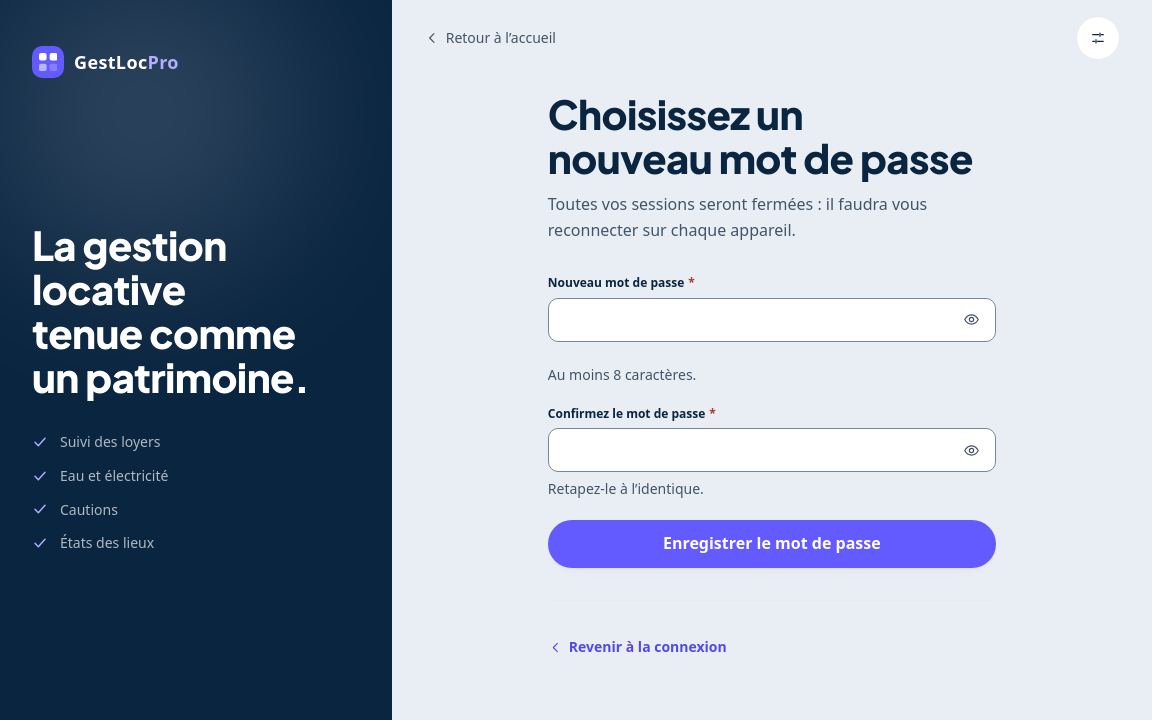
Scenario: formulaire de réinitialisation › refuse deux saisies différentes
Type "Bonamoussadi2026!" into the password field labelled "Nouveau mot de passe*" at coordinates (772, 320), box [548,298,996,342]
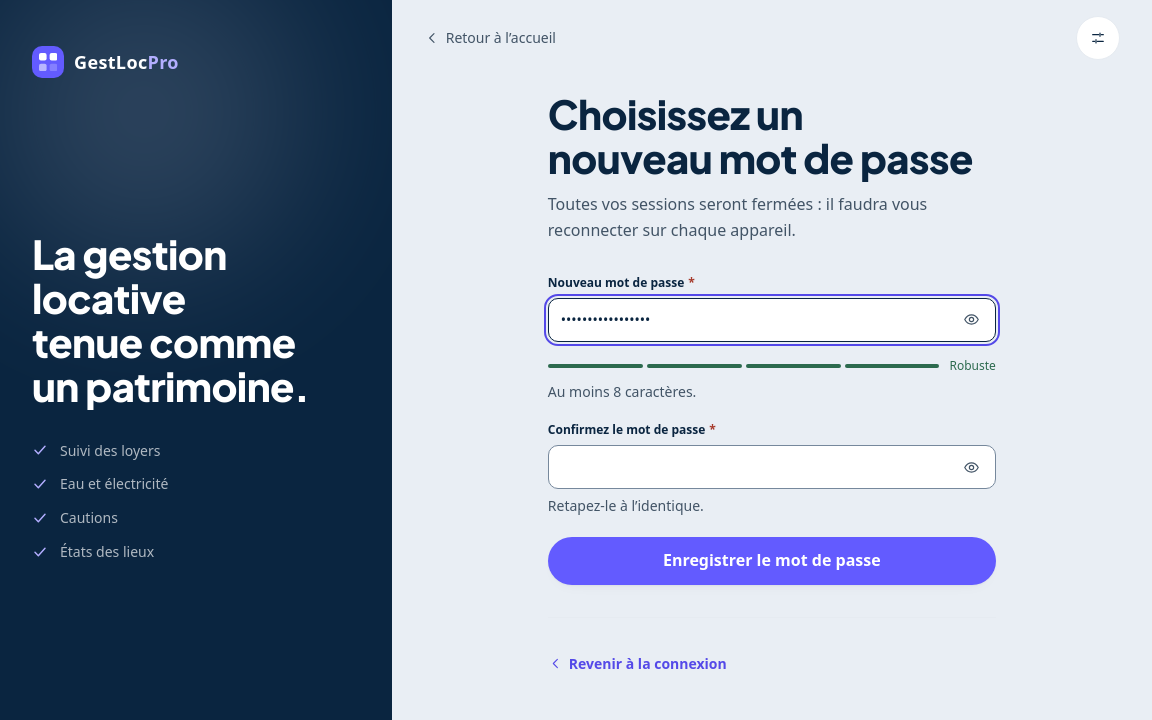
Type "Bonamoussadi2026" into the password field labelled "Confirmez le mot de passe*" at coordinates (772, 467), box [548,445,996,489]
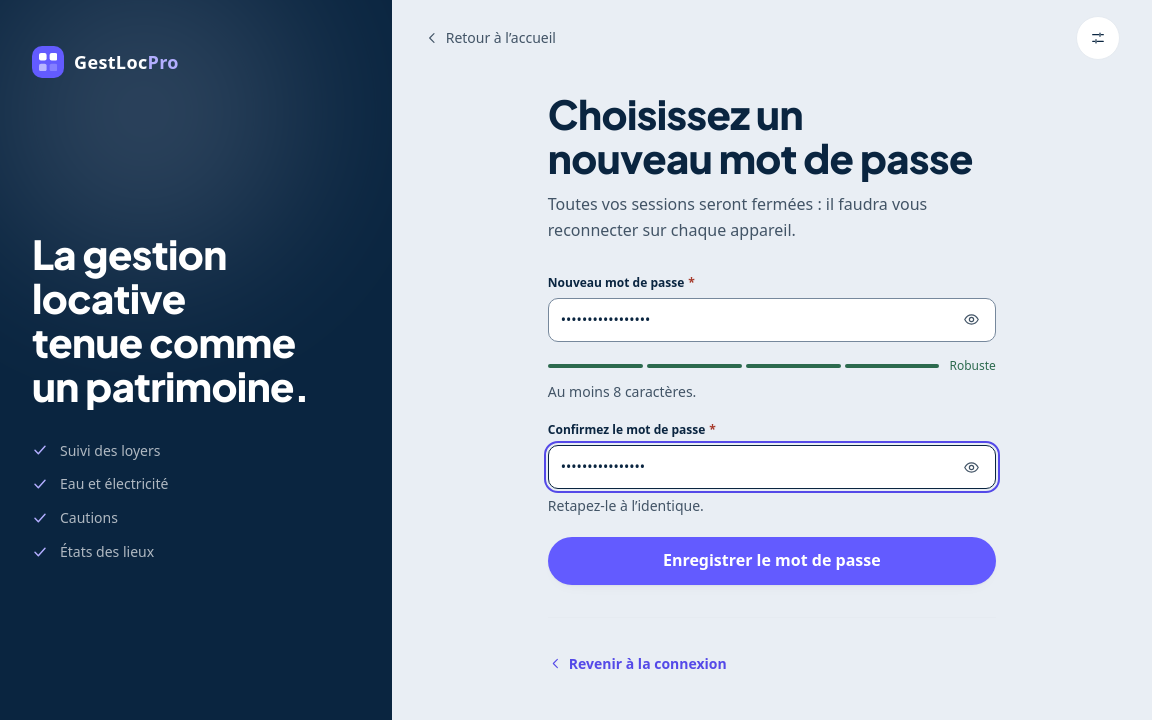
Click the button "Enregistrer le mot de passe" at coordinates (772, 561), box [548,537,996,585]
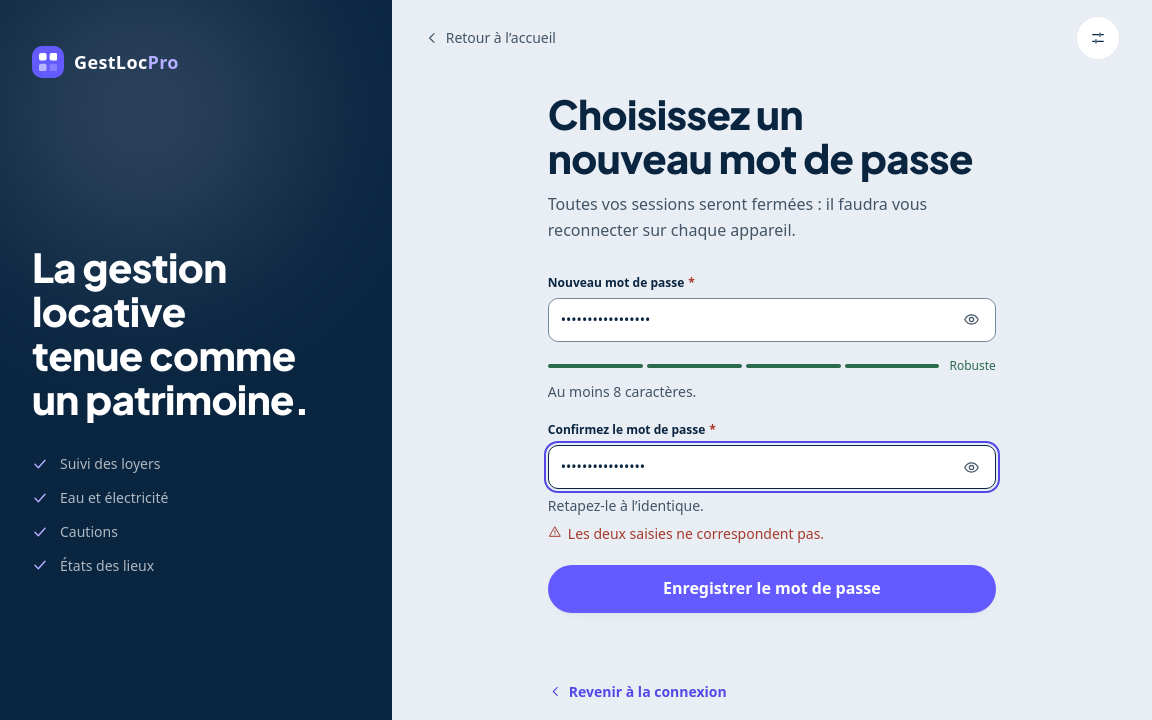
expect the message shows "ne correspondent pas": met, box [568,524,824,543]
